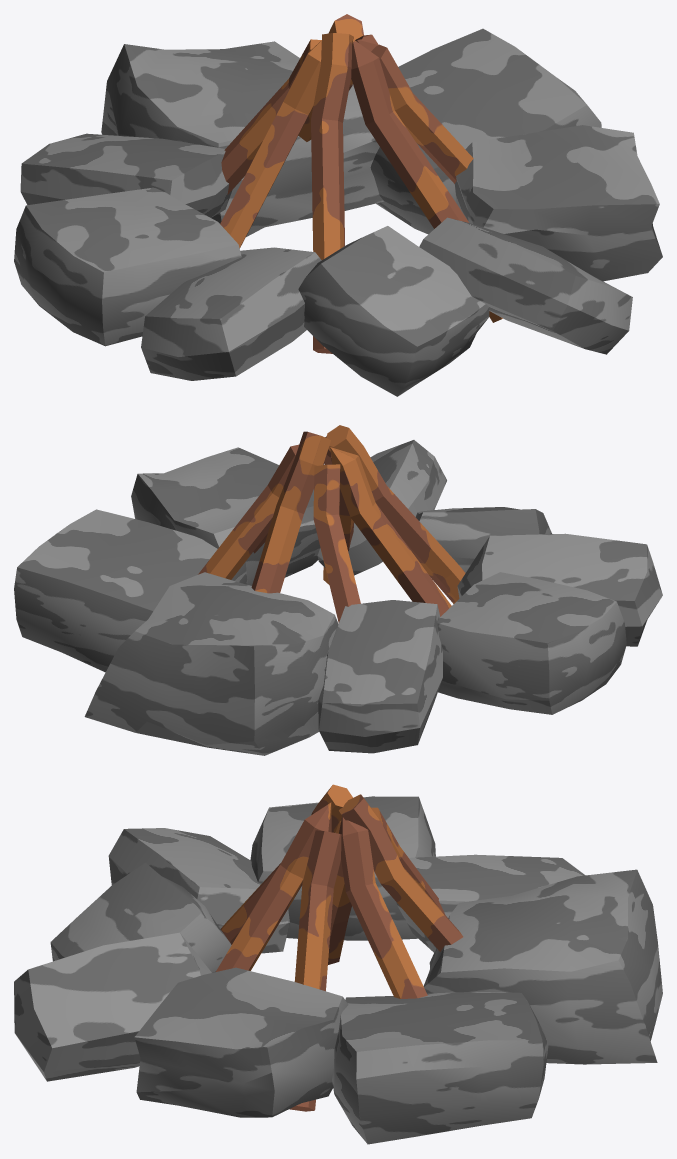
File: firecamp.fbx
The picture shows the model from 3 angles, top to bottom: view 1: azimuth 30°, elevation 25°; view 2: azimuth 150°, elevation 25°; view 3: azimuth 270°, elevation 25°; orthographic projection. The views are drawn at different scales.
Visible parts, largest first — view 1: Cube.001, Sticks; view 2: Cube.001, Sticks; view 3: Cube.001, Sticks.
Boxes of the visible parts, x1,y1,x2,y2 form: Cube.001: (14,28,662,396); Sticks: (220,14,502,353); Cube.001: (14,440,662,755); Sticks: (198,425,465,622); Cube.001: (14,796,662,1144); Sticks: (216,784,463,1111).
Bounding box in the file's own units: 541 × 230 × 549.
Materials: 2 (2 with a texture image).
